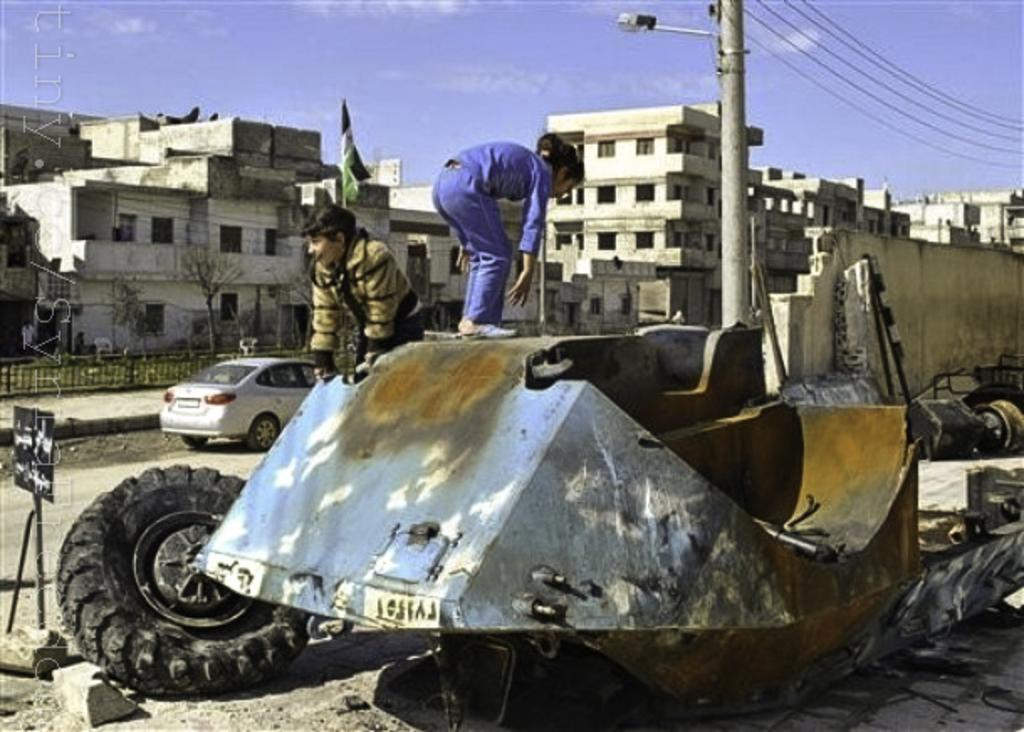Tank: (201, 319, 1022, 727)
